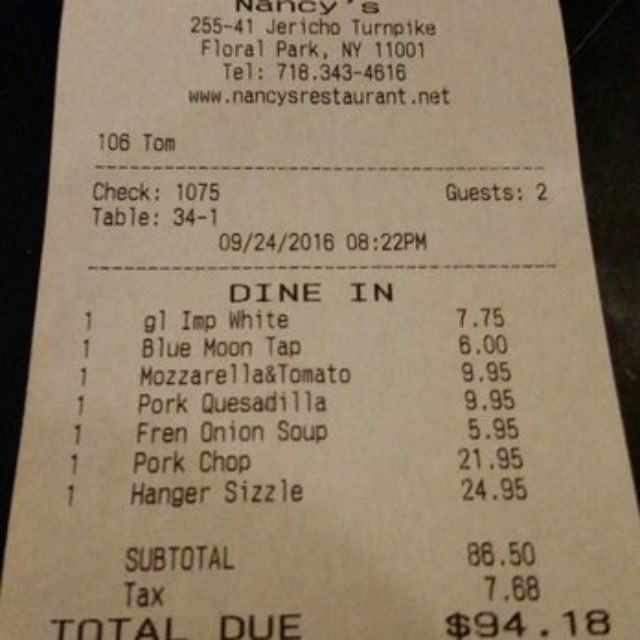invoice_table: (63, 304, 528, 507)
invoice_title: (187, 1, 452, 111)
invoice_total: (45, 607, 611, 640)
